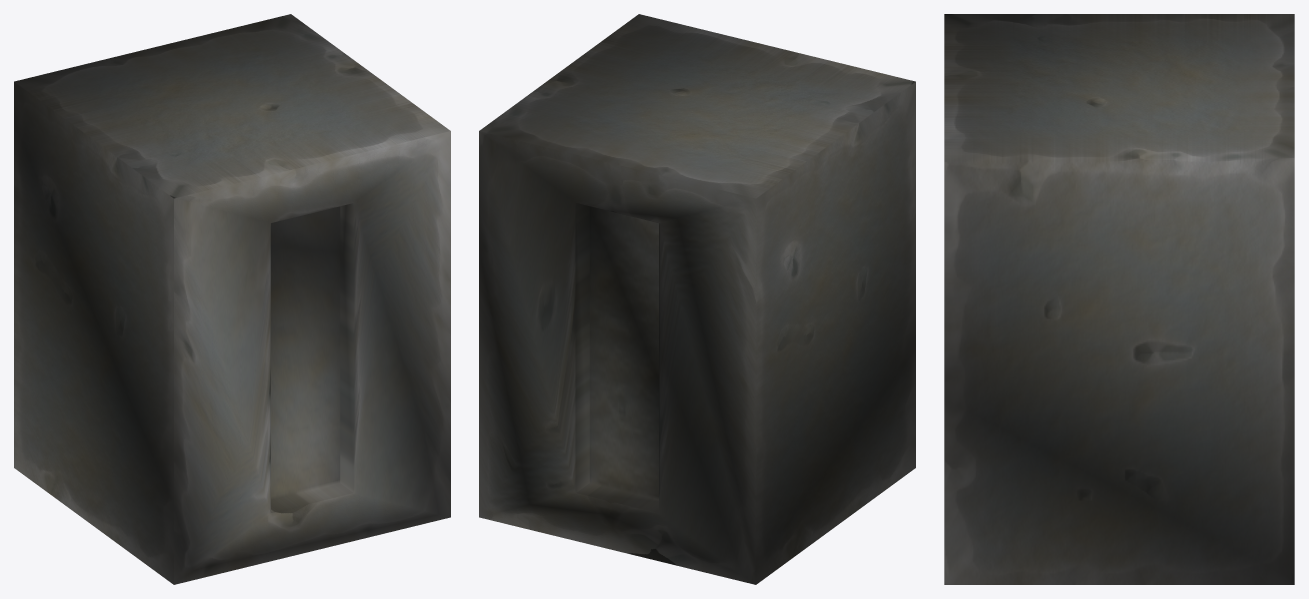
Rendered from GowLightCube.fbx.
3 views of the same model, side by side, from view 1: azimuth 30°, elevation 25°; view 2: azimuth 150°, elevation 25°; view 3: azimuth 270°, elevation 25° (orthographic). The views are drawn at different scales.
Parts seen in each view (by area): view 1: LightCubeLow; view 2: LightCubeLow; view 3: LightCubeLow.
Part boxes in pixels (x1,y1,x2,y2): LightCubeLow: (14,14,450,584); LightCubeLow: (479,14,915,584); LightCubeLow: (944,14,1294,584).
Bounding box in the file's own units: 60 × 80 × 60.
